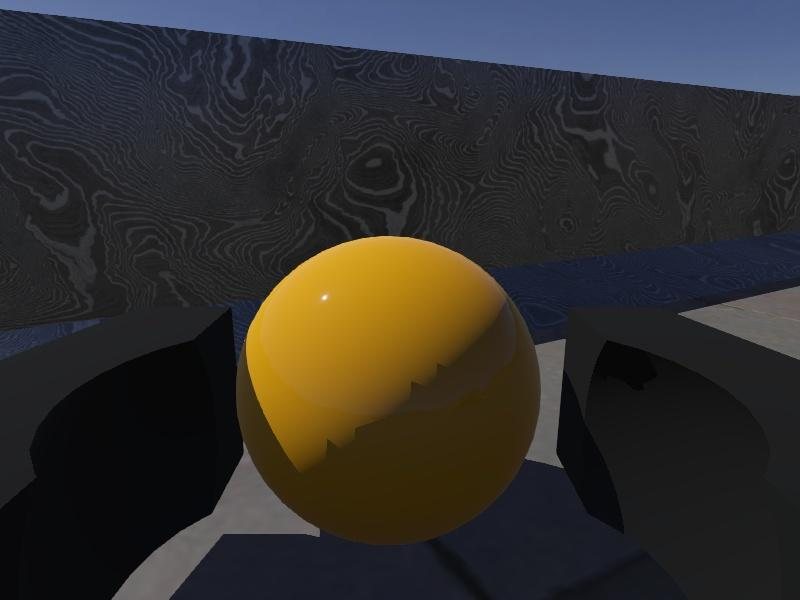orange ball: (235, 234, 542, 547)
